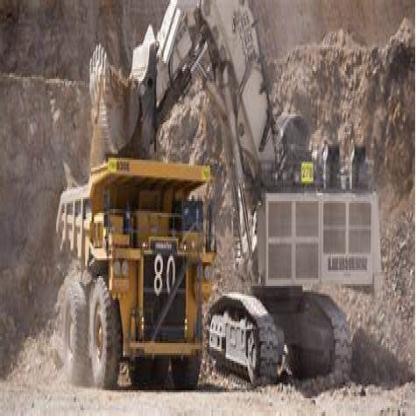dump_truck: (49, 150, 218, 378)
